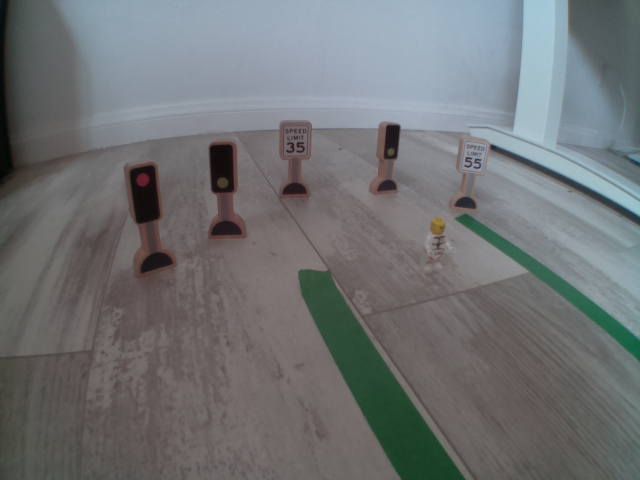Green Traffic Light: (205, 136, 242, 196), (376, 121, 408, 162)
Red Traffic Light: (116, 158, 169, 229)
Speed Limit 35: (275, 116, 318, 164)
Speed Limit 55: (455, 132, 491, 180)
person: (414, 205, 452, 277)
